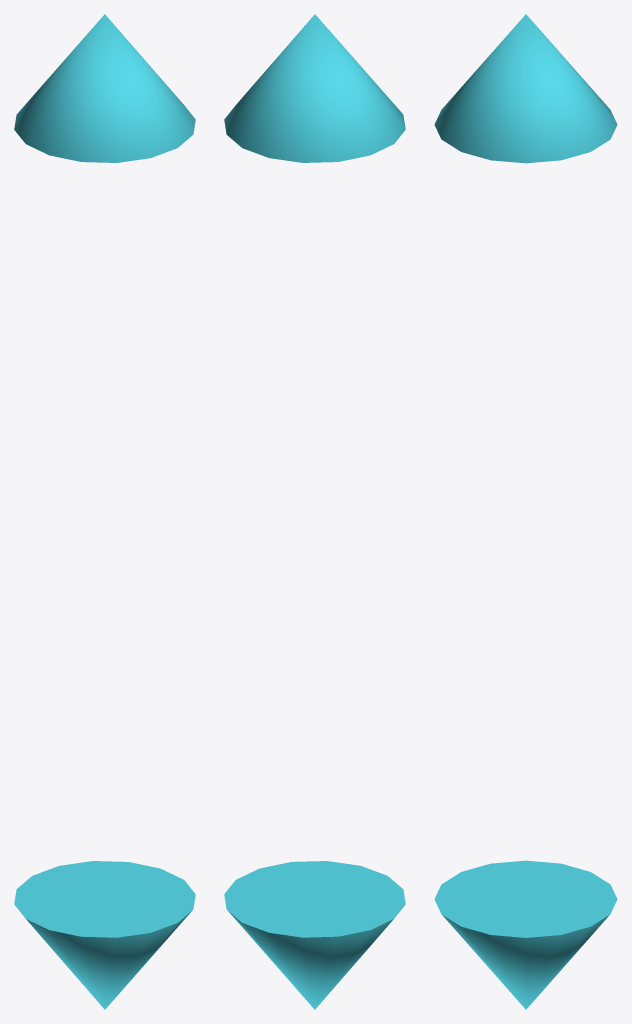
The model's file is AnchorArrow_50.fbx.
3 renders of one model, left to right at view 1: azimuth 30°, elevation 25°; view 2: azimuth 150°, elevation 25°; view 3: azimuth 270°, elevation 25°, orthographic.
Visible parts, largest first — view 1: Y; view 2: Y; view 3: Y.
Boxes of the visible parts, x1=… form: Y: x1=14, y1=14, x2=195, y2=1009; Y: x1=224, y1=14, x2=405, y2=1009; Y: x1=434, y1=14, x2=617, y2=1009.
Bounding box in the file's own units: 1.83 × 10.96 × 1.83.
